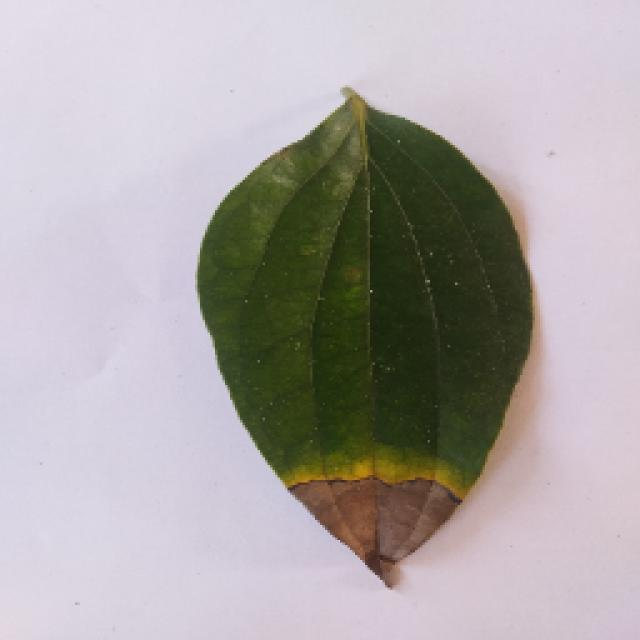footrot: (183, 90, 545, 585)
